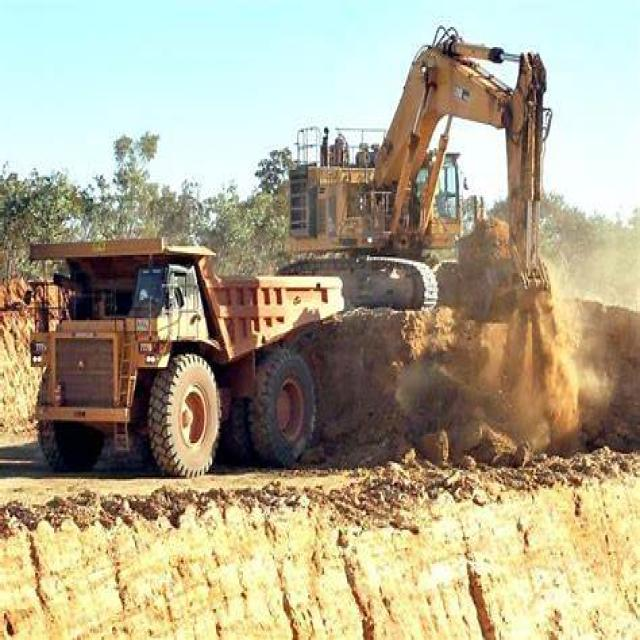dump_truck: (18, 209, 348, 492)
excavator: (278, 16, 564, 356)
